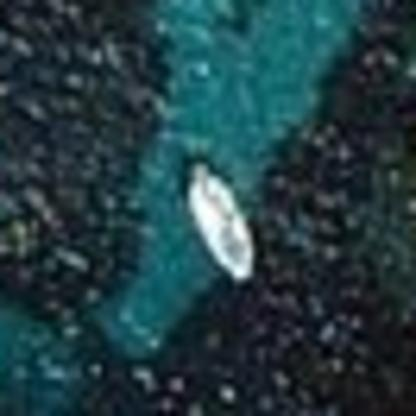ship: (170, 146, 272, 294)
